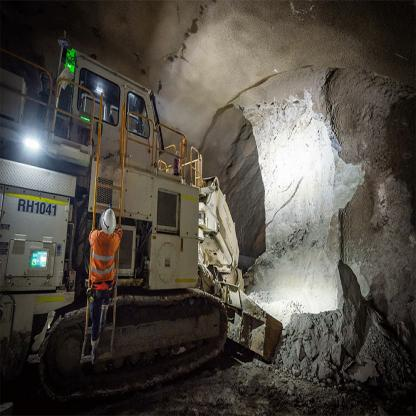person: (70, 194, 130, 376)
